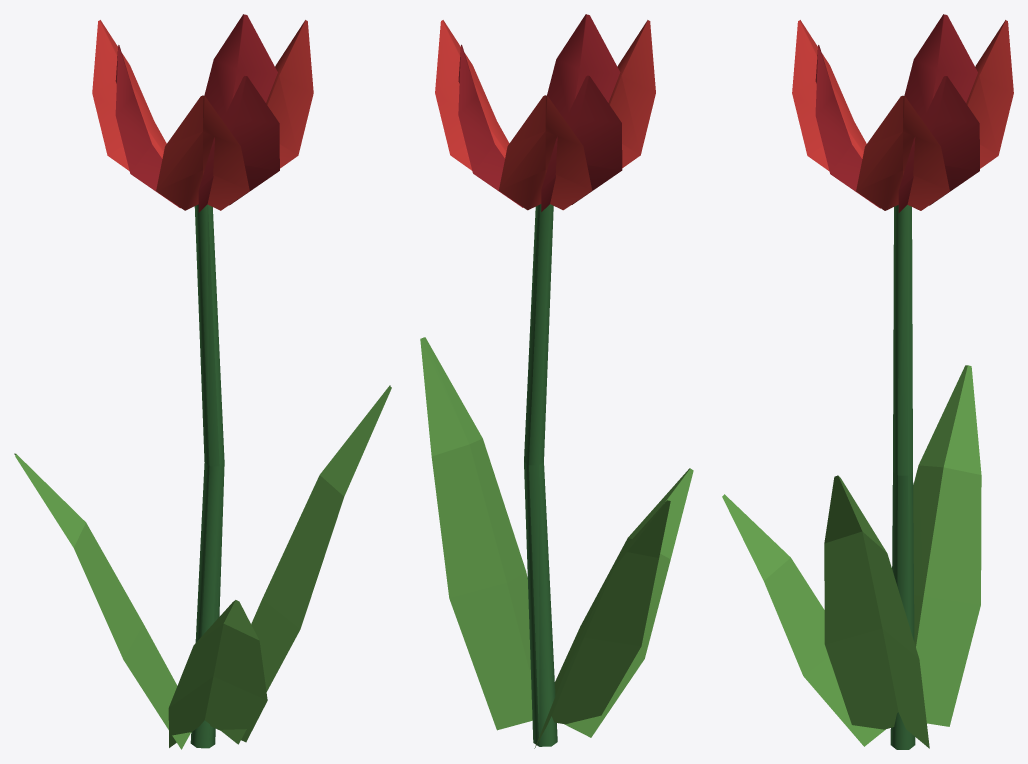
File: ZB_bitki_lale_tarhi.glb
3 views of the same model, side by side, from view 1: azimuth 30°, elevation 25°; view 2: azimuth 150°, elevation 25°; view 3: azimuth 270°, elevation 25° (orthographic).
Visible parts, largest first — view 1: ZB_bitki_lale_tarhi; view 2: ZB_bitki_lale_tarhi; view 3: ZB_bitki_lale_tarhi.
Part boxes in pixels (box(x1,y1,x2,y2)): ZB_bitki_lale_tarhi: box(14, 14, 391, 749); ZB_bitki_lale_tarhi: box(420, 14, 693, 748); ZB_bitki_lale_tarhi: box(722, 14, 1013, 749).
Bounding box in the file's own units: 0.3238 × 0.6905 × 0.2609.
